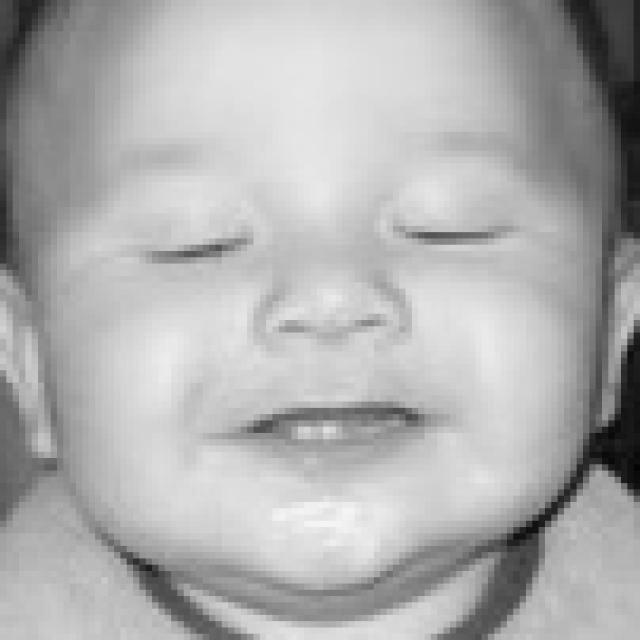real: (20, 0, 600, 594), (114, 190, 530, 280)
